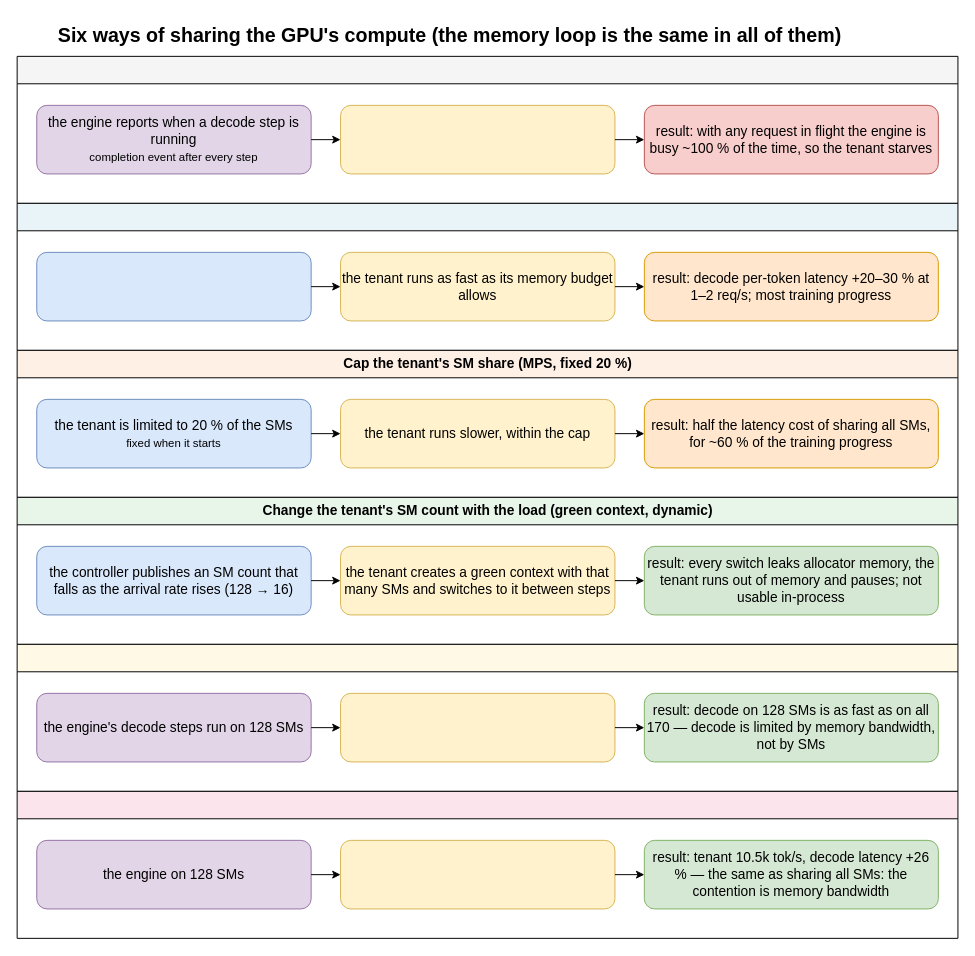
This 975x956 diagram has some shape labels left out. The box of each missing label's shape, as (x1, y1, x2, y2) in pixels:
both processes run through MPS their kernels share all SMs: (36, 251, 311, 321)
Give the engine fewer SMs (green context, 128 of 170): (16, 643, 958, 791)
Share all SMs (MPS, no cap): (16, 202, 958, 350)
Split the SMs between the two (green context, static): (16, 790, 958, 938)
the tenant gets the rest (dynamic, as above): (340, 692, 615, 762)
the tenant on the remaining 42 SMs, no switching: (340, 839, 615, 909)
the tenant waits for a quiet moment before each transformer block: (340, 104, 615, 174)
Wait for idle windows: (16, 55, 958, 203)
